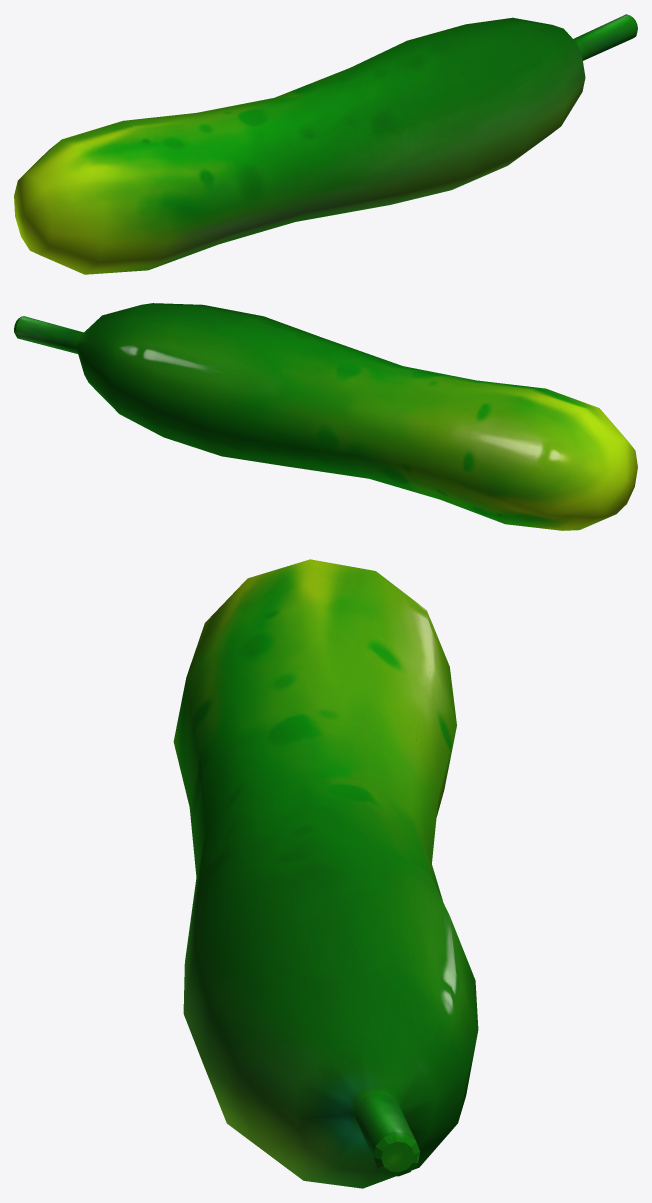
Rendered from 宝宝巴士-切菜大师-黄瓜.FBX.
3 renders of one model, top to bottom at view 1: azimuth 30°, elevation 25°; view 2: azimuth 150°, elevation 25°; view 3: azimuth 270°, elevation 25°, orthographic. The views are drawn at different scales.
Parts seen in each view (by area): view 1: 宝宝巴士-切菜大师-黄瓜; view 2: 宝宝巴士-切菜大师-黄瓜; view 3: 宝宝巴士-切菜大师-黄瓜.
Boxes of the visible parts, <box> form: 宝宝巴士-切菜大师-黄瓜: <box>14,14,637,274</box>; 宝宝巴士-切菜大师-黄瓜: <box>14,303,637,530</box>; 宝宝巴士-切菜大师-黄瓜: <box>173,559,478,1188</box>.
Size of the model in its own units: 73.94 by 16.11 by 16.47.
1 material, 1 textured.
